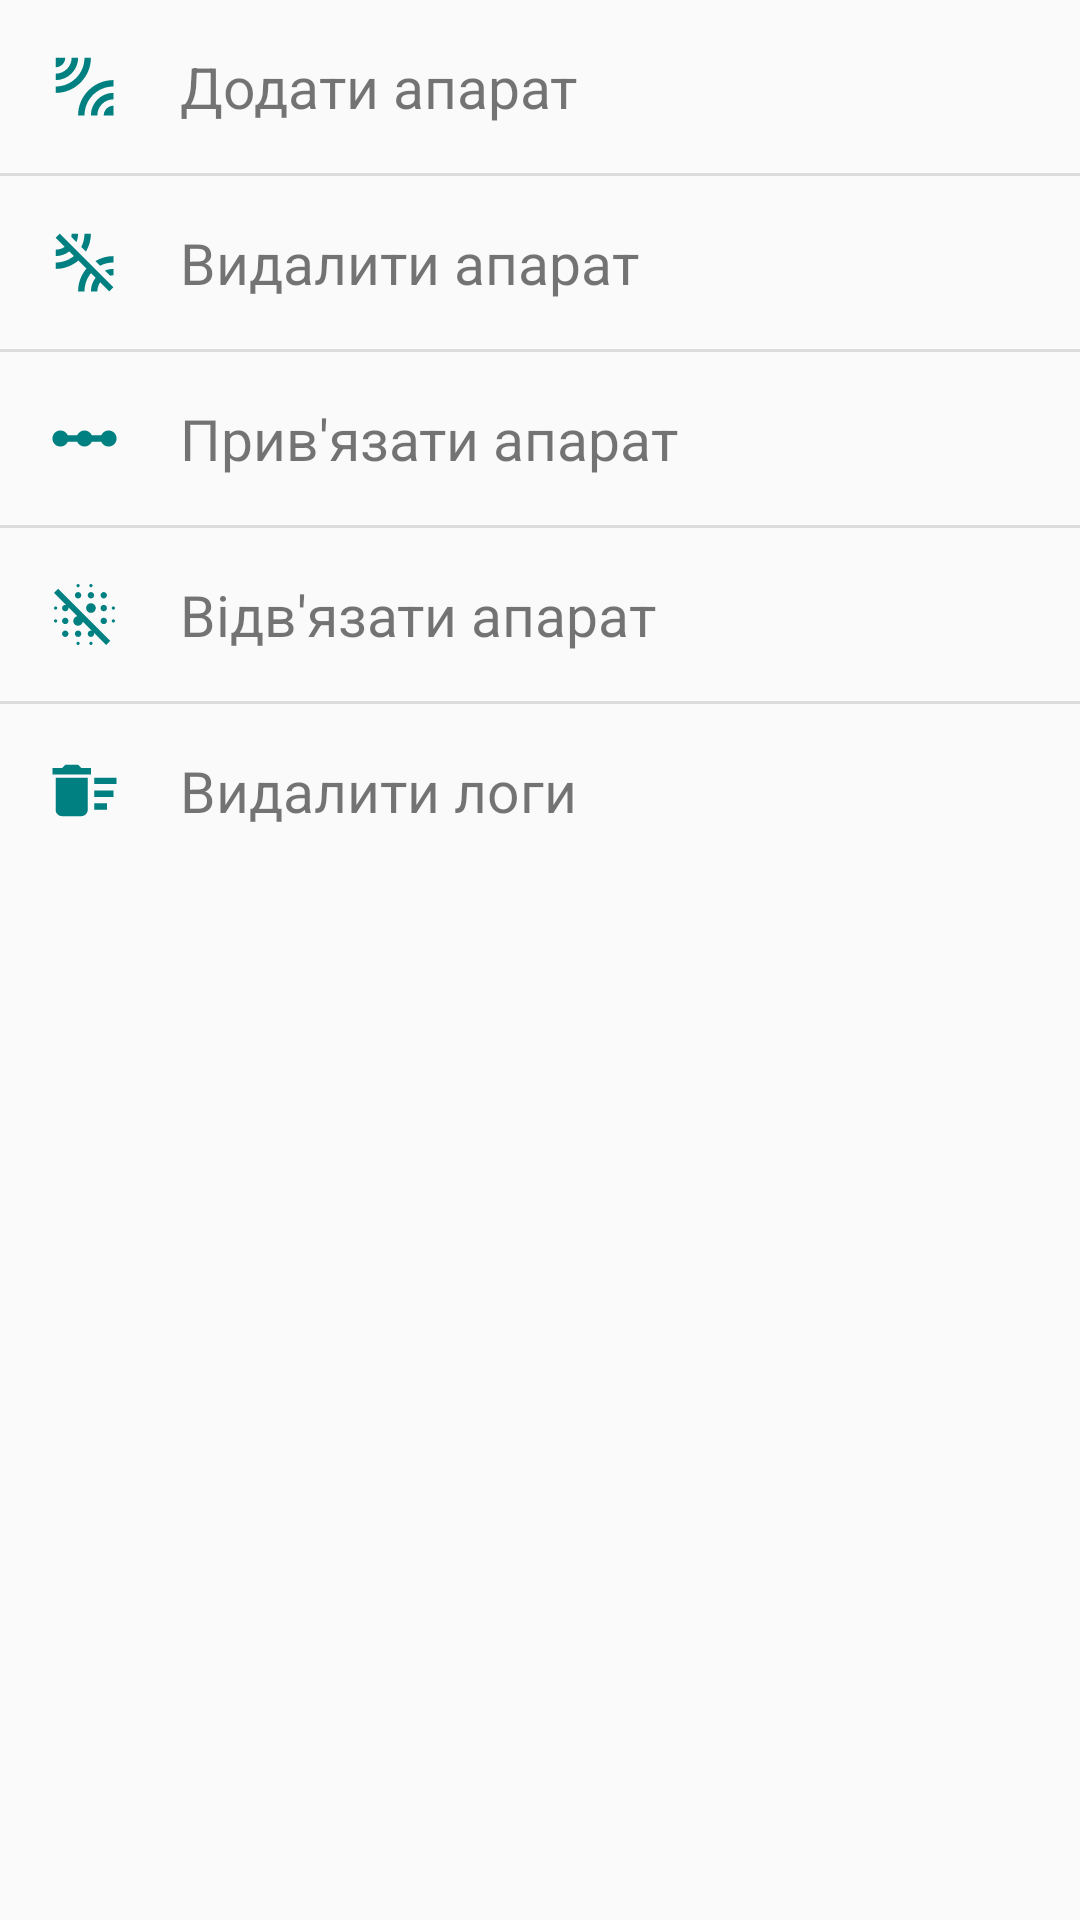

Locate icon controls on the screen. Image size 1080 x 1920, boxes as (x1=x1, y1=y1, x2=x2, y2=y2).
blur off: (x1=54, y1=584, x2=115, y2=645)
delete sweep: (x1=52, y1=764, x2=117, y2=817)
leak add: (x1=55, y1=57, x2=114, y2=116)
leak remove: (x1=55, y1=233, x2=114, y2=292)
linear scale: (x1=52, y1=430, x2=117, y2=447)
